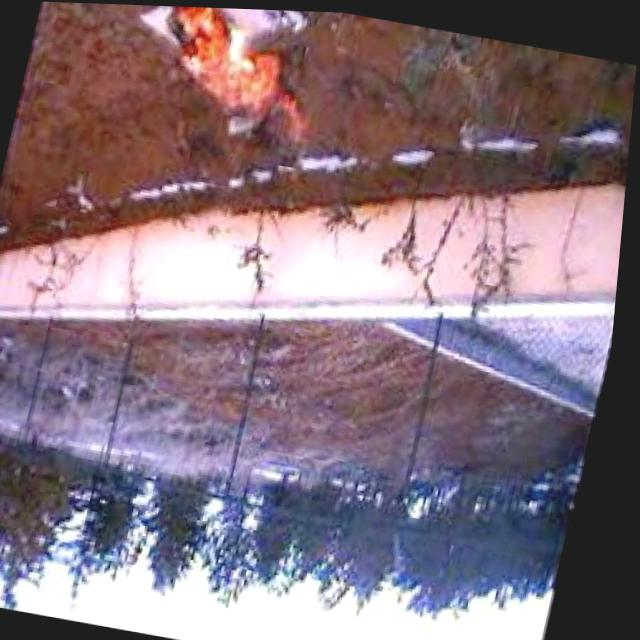Fire: (135, 4, 331, 143)
